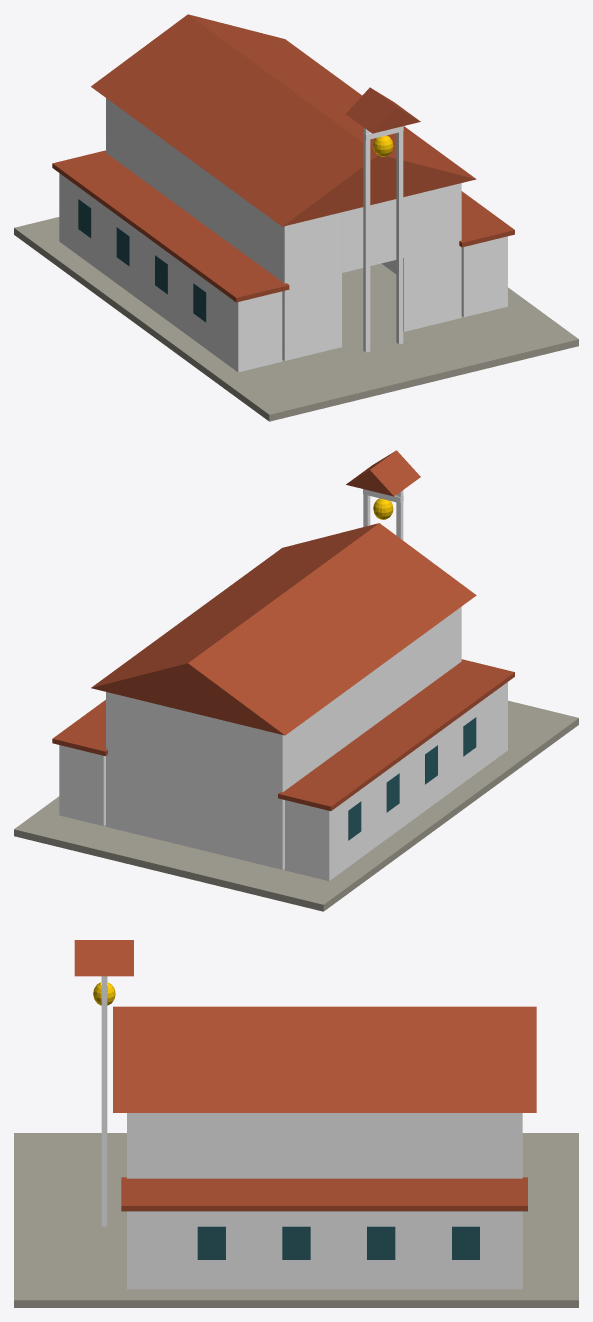
Rendered from church-inspired-building.glb.
3 renders of one model, top to bottom at view 1: azimuth 30°, elevation 25°; view 2: azimuth 150°, elevation 25°; view 3: azimuth 270°, elevation 25°, orthographic. The views are drawn at different scales.
Parts seen in each view (by area): view 1: Nave_Roof, Foundation, Side_Aisle, Aisle_Roof.001, Nave_Wall, Entry_Wing.001, Entry_Wing, Side_Aisle.001, Entry_Header, Bell_Tower_Roof, Bell_Tower_Post.001, Aisle_Roof (+1 smaller); view 2: Nave_Roof, Rear_Wall, Foundation, Side_Aisle, Nave_Wall, Aisle_Roof.001, Side_Aisle.001, Bell_Tower_Roof, Aisle_Roof; view 3: Nave_Roof, Foundation, Side_Aisle.001, Nave_Wall.001, Aisle_Roof, Bell_Tower_Roof, Bell_Tower_Post, Aisle_Window.006, Aisle_Window.005, Aisle_Window.007, Aisle_Window.
Boxes of the visible parts, x1,y1,x2,y2 form: Nave_Roof: (91,14,476,226); Foundation: (14,217,578,421); Side_Aisle: (59,173,282,372); Aisle_Roof.001: (52,150,289,302); Nave_Wall: (106,98,286,360); Entry_Wing.001: (403,183,461,331); Entry_Wing: (283,212,341,360); Side_Aisle.001: (461,236,507,317); Entry_Header: (342,197,403,272); Bell_Tower_Roof: (346,87,420,133); Bell_Tower_Post.001: (363,127,370,352); Aisle_Roof: (459,191,514,247); Nave_Roof: (91,523,476,735); Rear_Wall: (106,693,285,869); Foundation: (14,700,578,911); Side_Aisle: (285,682,507,880); Nave_Wall: (278,608,461,869); Aisle_Roof.001: (278,659,514,810); Side_Aisle.001: (59,745,105,825); Bell_Tower_Roof: (346,450,420,496); Aisle_Roof: (52,700,107,756); Nave_Roof: (113,1006,536,1112); Foundation: (14,1133,578,1307); Side_Aisle.001: (127,1211,522,1289); Nave_Wall.001: (127,1113,522,1178); Aisle_Roof: (121,1177,527,1211); Bell_Tower_Roof: (74,940,133,976); Bell_Tower_Post: (101,976,107,1226); Aisle_Window.006: (282,1226,310,1259); Aisle_Window.005: (197,1226,225,1259); Aisle_Window.007: (367,1226,395,1259); Aisle_Window: (452,1226,479,1259).
Size of the model in its own units: 14 by 11.1 by 20.
